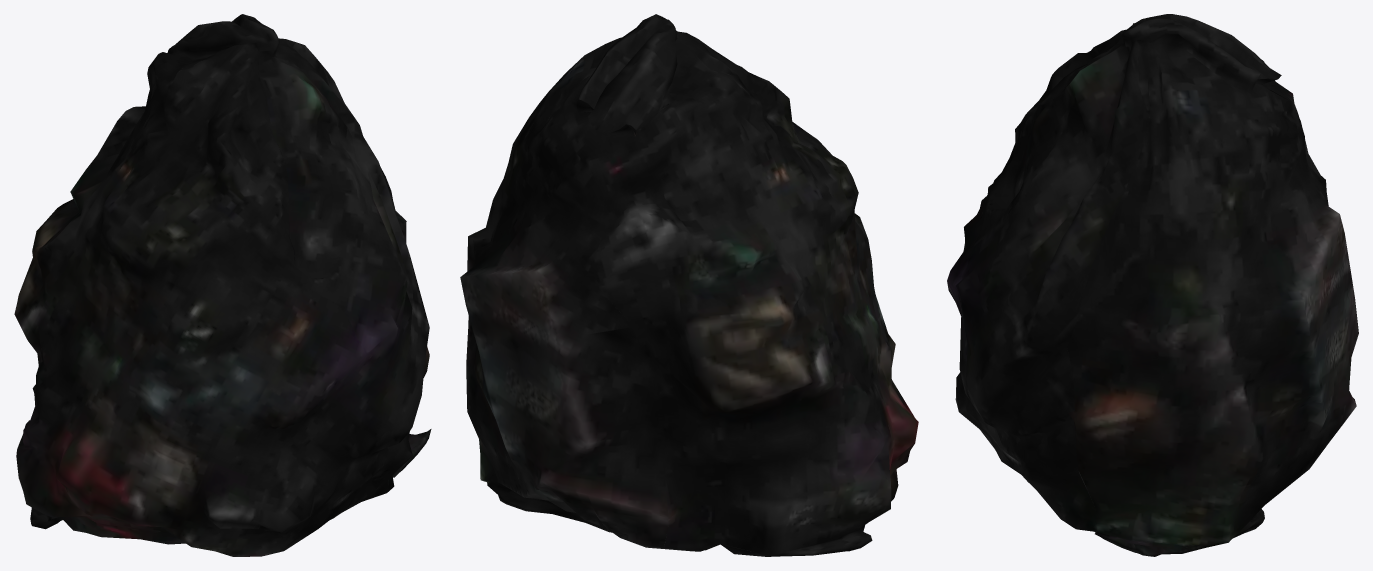
Rendered from trash_bag.glb.
3 views of the same model, side by side, from view 1: azimuth 30°, elevation 25°; view 2: azimuth 150°, elevation 25°; view 3: azimuth 270°, elevation 25° (orthographic). The views are drawn at different scales.
Parts seen in each view (by area): view 1: trash_bag; view 2: trash_bag; view 3: trash_bag.
Part boxes in pixels (bbox=[...]): trash_bag: bbox=[14, 14, 431, 556]; trash_bag: bbox=[460, 14, 918, 556]; trash_bag: bbox=[947, 14, 1358, 556].
Size of the model in its own units: 0.5281 by 0.575 by 0.4629.
Materials: 1 (1 with a texture image).
